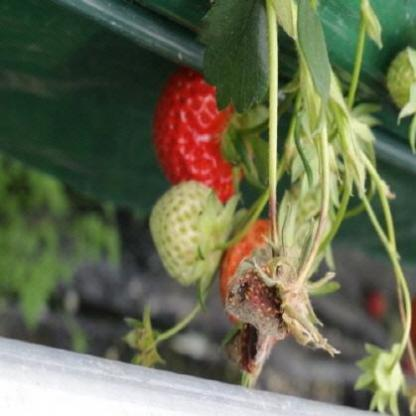Strawberry_Gray_Mold: (222, 207, 341, 377)
